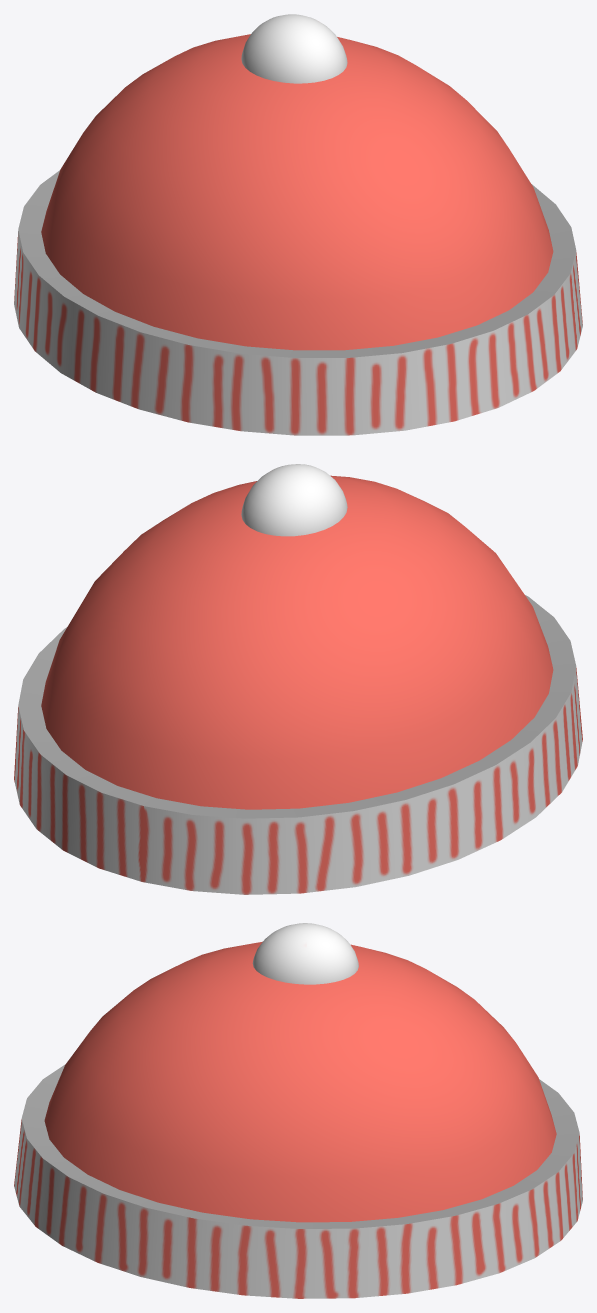
Rendered from bere.fbx.
3 views of the same model, one above another, from view 1: azimuth 30°, elevation 25°; view 2: azimuth 150°, elevation 25°; view 3: azimuth 270°, elevation 25° (orthographic). The views are drawn at different scales.
Parts seen in each view (by area): view 1: bere; view 2: bere; view 3: bere.
Boxes of the visible parts, <box> form: bere: <box>14,14,582,435</box>; bere: <box>14,464,582,894</box>; bere: <box>14,923,582,1298</box>.
Size of the model in its own units: 20.78 by 12.55 by 23.68.
